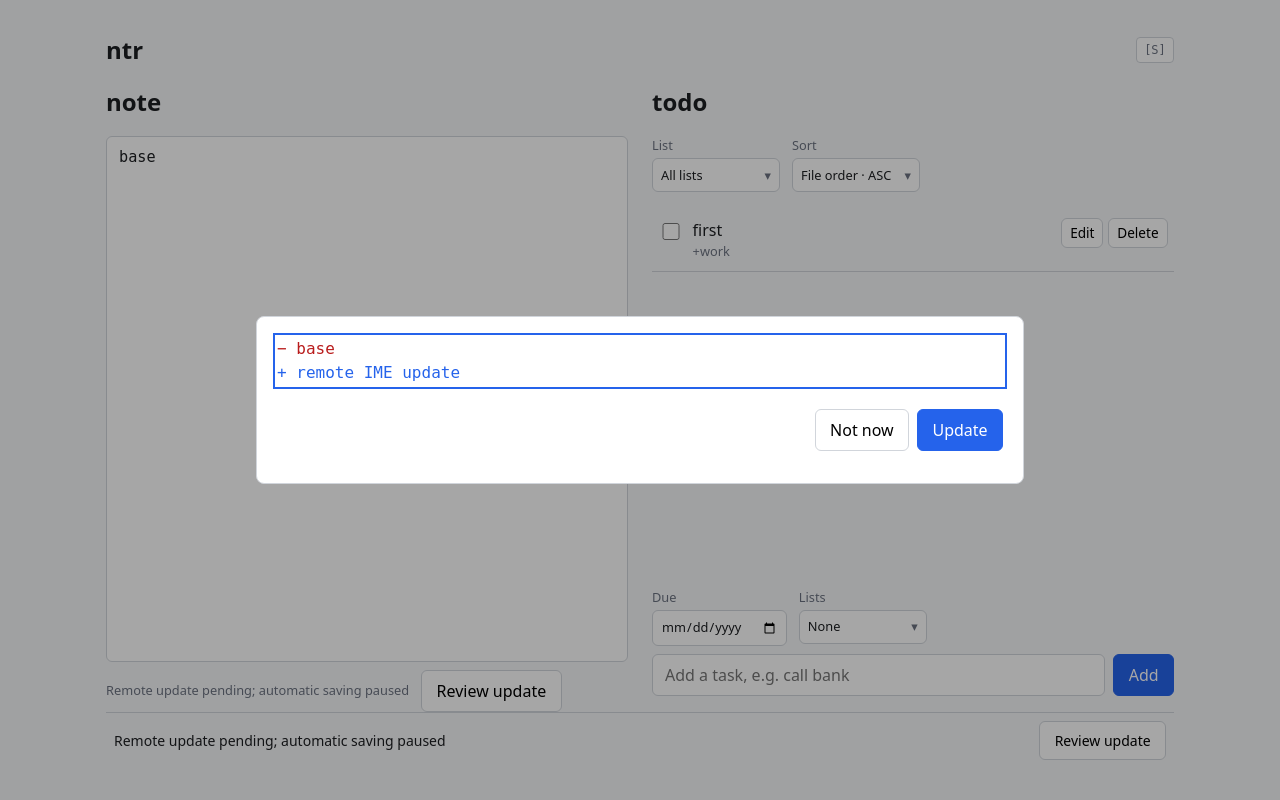
Test: approval across real panes › defers approved note application during IME and protects the committed draft on review
The width and height of the screenshot is (1280, 800).
Later steps or results of the test are not shown.
Click the button "Update" at [960, 430], box [917,409,1003,451]
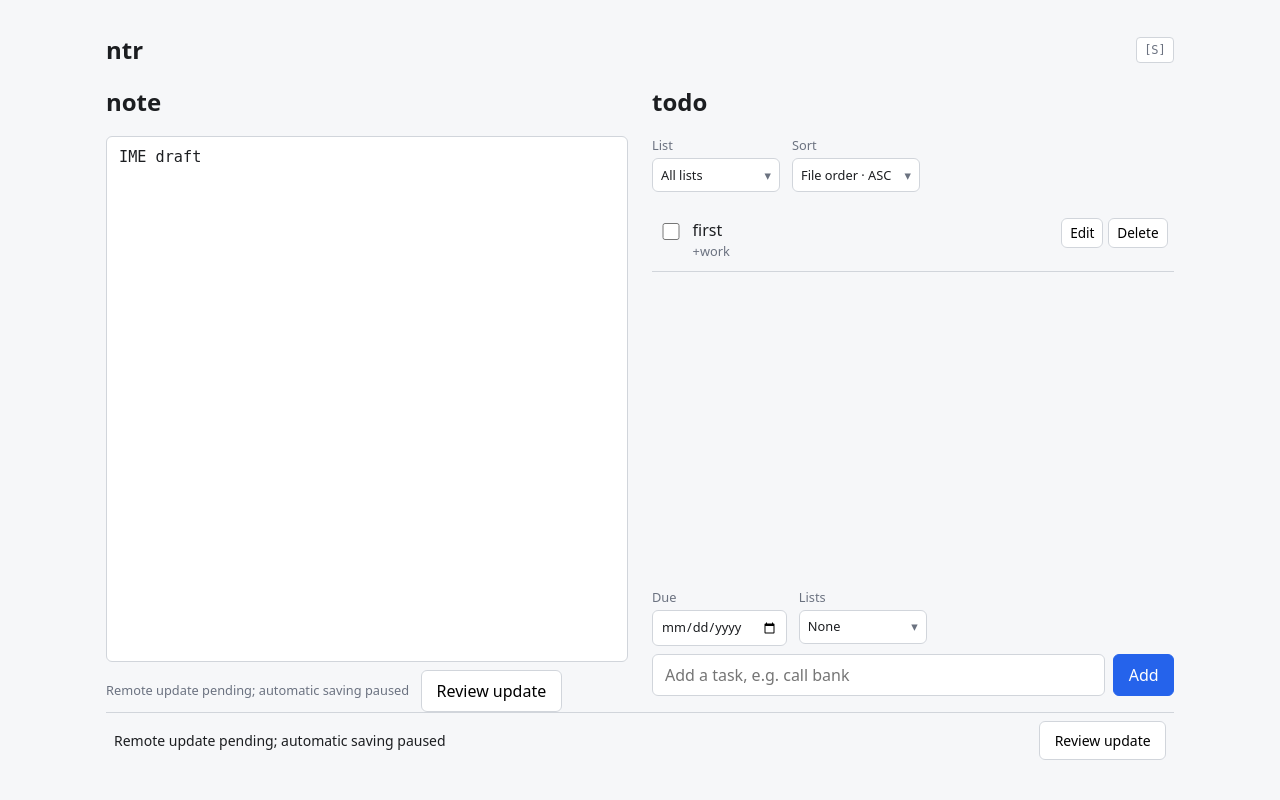
Click the button with aria-label "Review update for note" at [1103, 740], box [1039,721,1166,760]
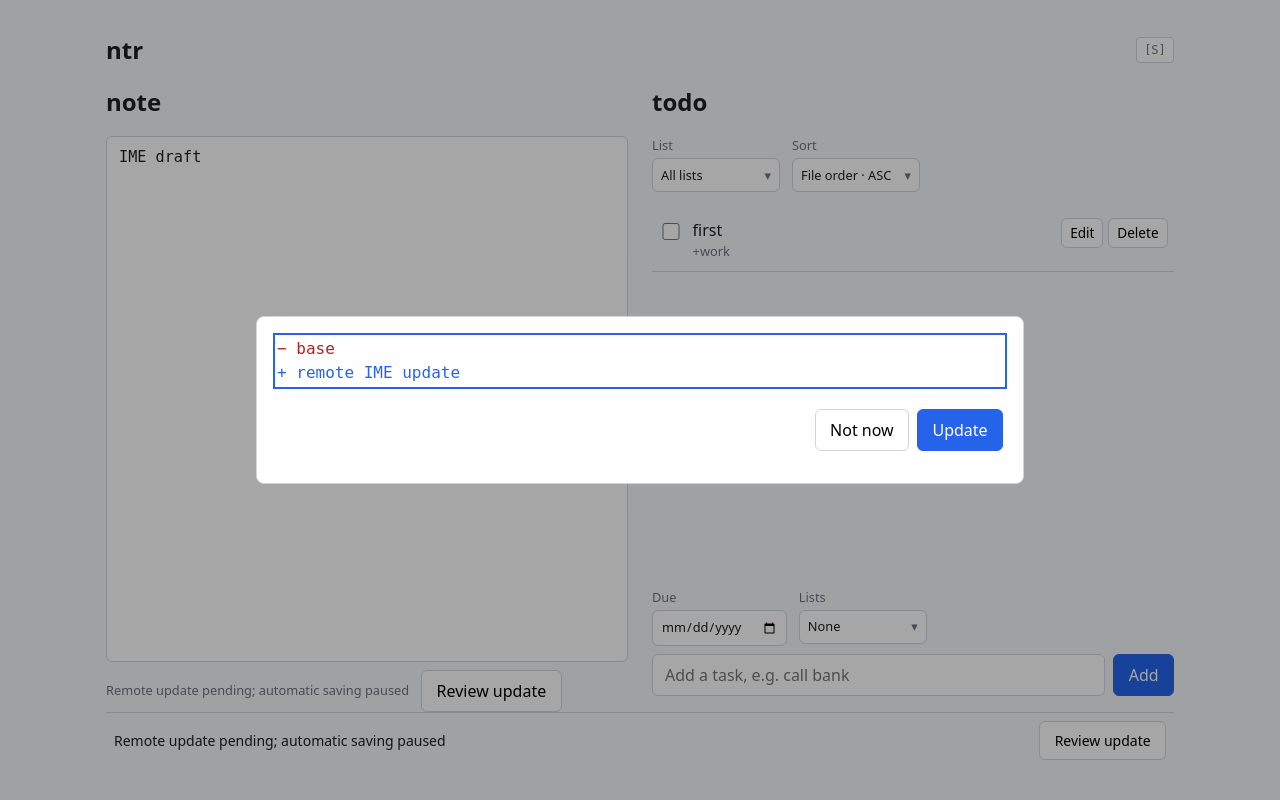
Click the button "Update" at [960, 430], box [917,409,1003,451]
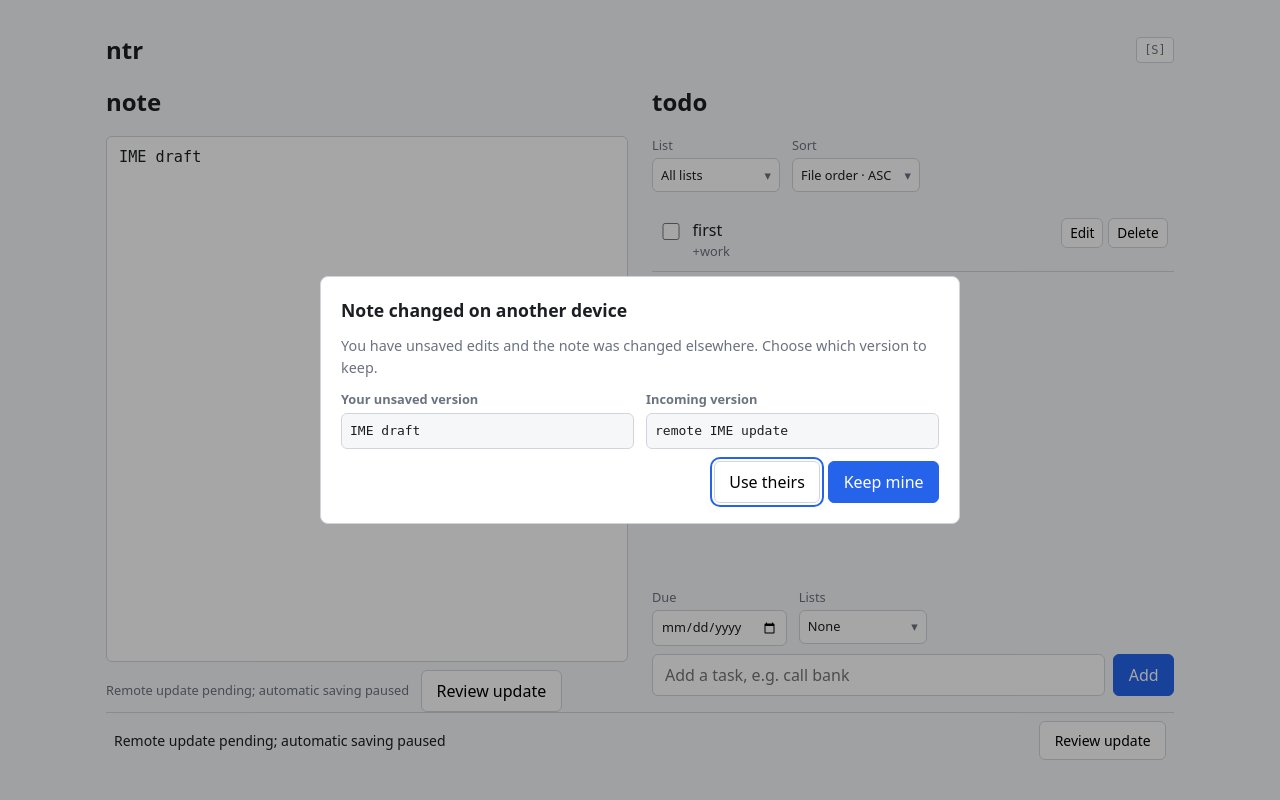
Check: the field named "Note (Markdown)" reads "IME draft", box [106,136,628,662]
